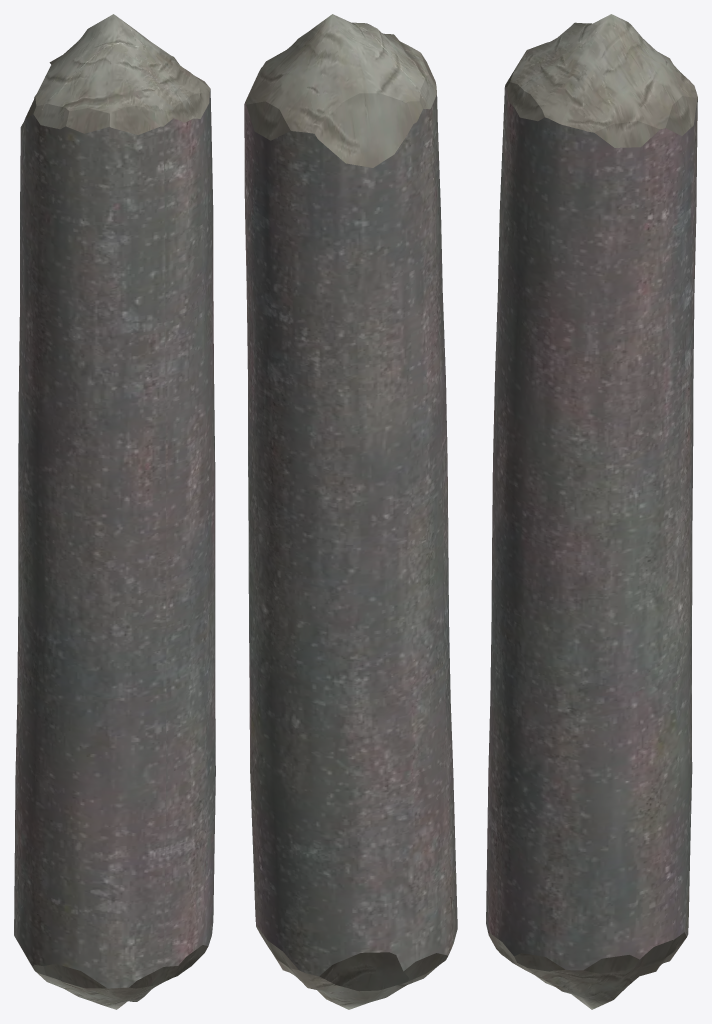
3 views of the same model, side by side, from view 1: azimuth 30°, elevation 25°; view 2: azimuth 150°, elevation 25°; view 3: azimuth 270°, elevation 25° (orthographic).
Visible parts, largest first — view 1: SM_GF_Ash_Tree_03_quarter_04_LOD0; view 2: SM_GF_Ash_Tree_03_quarter_04_LOD0; view 3: SM_GF_Ash_Tree_03_quarter_04_LOD0.
Boxes of the visible parts, left/top/right/bottom form: SM_GF_Ash_Tree_03_quarter_04_LOD0: left=14, top=14, right=215, bottom=1009; SM_GF_Ash_Tree_03_quarter_04_LOD0: left=244, top=14, right=457, bottom=1009; SM_GF_Ash_Tree_03_quarter_04_LOD0: left=486, top=14, right=697, bottom=1009.
Bounding box in the file's own units: 0.4539 × 2.41 × 0.4637.
Materials: 1 (1 with a texture image).
